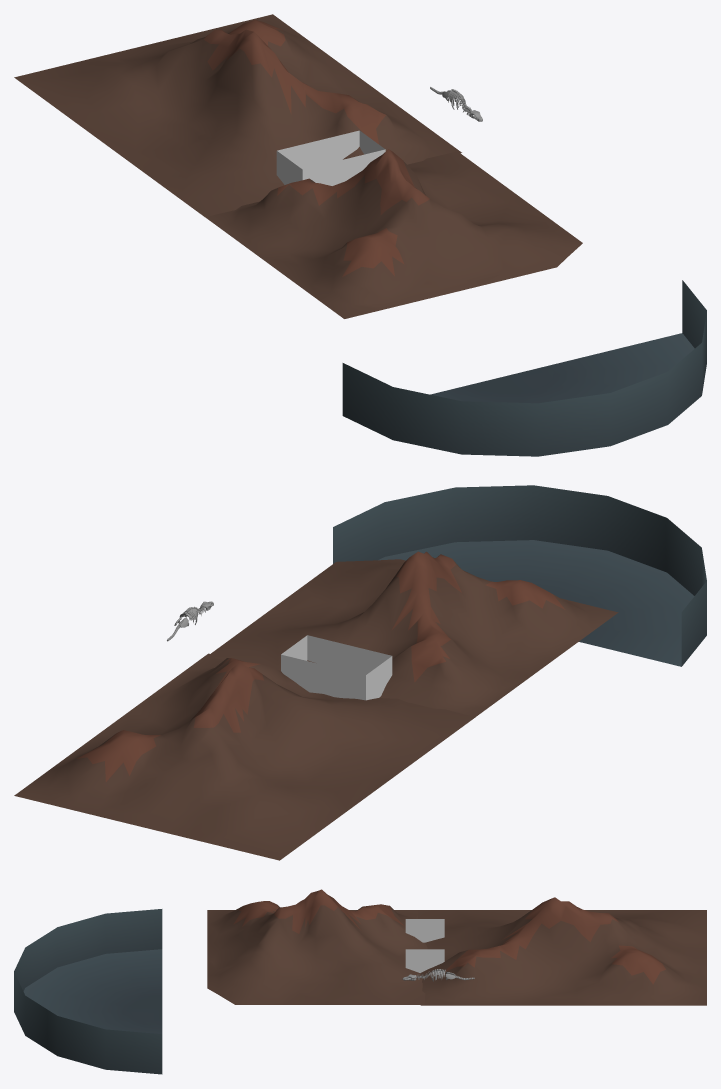
The model's file is assets_t1_a1.fbx.
3 views of the same model, one above another, from view 1: azimuth 30°, elevation 25°; view 2: azimuth 150°, elevation 25°; view 3: azimuth 270°, elevation 25° (orthographic). The views are drawn at different scales.
Visible parts, largest first — view 1: Mountain1_Final, Ground, godray; view 2: Mountain1_Final, Ground, godray; view 3: Mountain1_Final, Ground, godray, t_rex_bones.
Boxes of the visible parts, left/top/right/bottom form: Mountain1_Final: left=14, top=14, right=582, bottom=318; Ground: left=342, top=280, right=706, bottom=456; godray: left=276, top=130, right=385, bottom=185; Mountain1_Final: left=14, top=551, right=618, bottom=860; Ground: left=333, top=485, right=706, bottom=666; godray: left=281, top=635, right=392, bottom=700; Mountain1_Final: left=207, top=889, right=706, bottom=1005; Ground: left=14, top=909, right=162, bottom=1074; godray: left=405, top=919, right=444, bottom=972; t_rex_bones: left=402, top=969, right=474, bottom=981.
Bounding box in the file's own units: 162 × 69.45 × 378.
